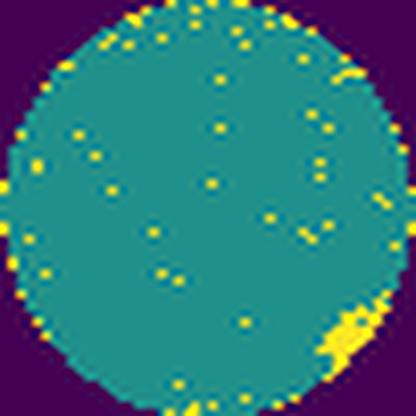Edge-Loc: (313, 289, 395, 384)
